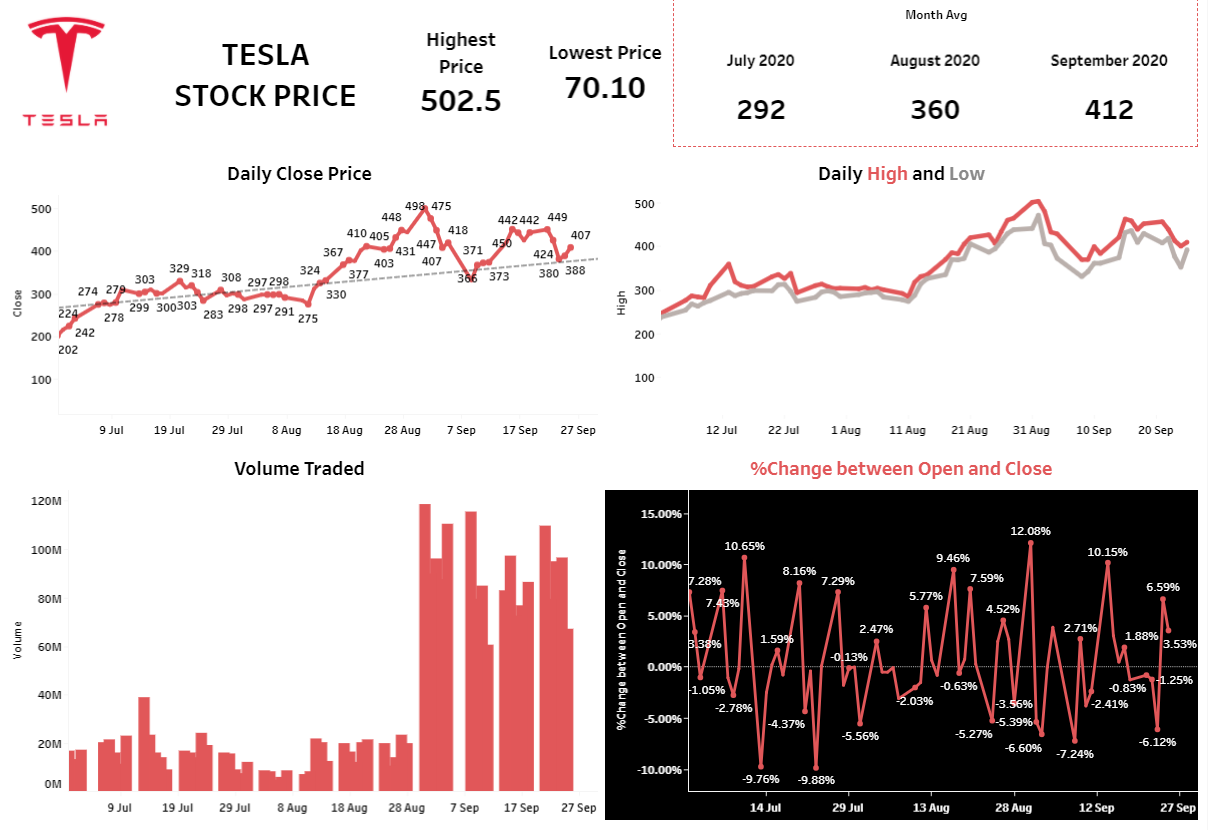

The page's visual inventory and layout, read from the dashboard file:
{"tool":"tableau","page":{"name":"Dashboard 1","canvas":[1300,900],"ordinal":0},"visuals":[{"type":"image","param":"C:/Users/anime/Downloads/teslalogo.png","box":[8,8,147,167]},{"type":"text","box":[155,8,278,167]},{"type":"worksheet","title":"Highest Close Price","mark":"Automatic","box":[433,8,137,167]},{"type":"worksheet","title":"Lowest Close Price (2)","mark":"Automatic","box":[587,8,137,167]},{"type":"worksheet","title":"Last 3 month Avg","mark":"Automatic","rows":["Date"],"box":[724,8,568,167]},{"type":"worksheet","title":"Daily Close Price","mark":"Automatic","rows":["Close"],"cols":["Date"],"box":[8,175,643.7,314]},{"type":"worksheet","title":"Daily High and Low","mark":"Line","rows":["High","Low"],"cols":["Date"],"box":[651.7,175,640.3,314]},{"type":"worksheet","title":"Volume Traded","mark":"Bar","rows":["Volume"],"cols":["Date"],"box":[8,489,643.7,403]},{"type":"worksheet","title":"%Change between Open and Close","mark":"Line","rows":["Calculation_757449192984064000"],"cols":["Date"],"box":[651.7,489,640.3,403]}]}

Visuals, with their boxes in screenshot pixels (x1, y1, x2, y2), scaled from the page's 1300x900 canvas onto the 1216x830 screenshot:
image: {"x1": 7, "y1": 7, "x2": 145, "y2": 161}
text: {"x1": 145, "y1": 7, "x2": 405, "y2": 161}
"Highest Close Price" worksheet: {"x1": 405, "y1": 7, "x2": 533, "y2": 161}
"Lowest Close Price (2)" worksheet: {"x1": 549, "y1": 7, "x2": 677, "y2": 161}
"Last 3 month Avg" worksheet: {"x1": 677, "y1": 7, "x2": 1209, "y2": 161}
"Daily Close Price" worksheet: {"x1": 7, "y1": 161, "x2": 610, "y2": 451}
"Daily High and Low" worksheet (Line marks): {"x1": 610, "y1": 161, "x2": 1209, "y2": 451}
"Volume Traded" worksheet (Bar marks): {"x1": 7, "y1": 451, "x2": 610, "y2": 823}
"%Change between Open and Close" worksheet (Line marks): {"x1": 610, "y1": 451, "x2": 1209, "y2": 823}
